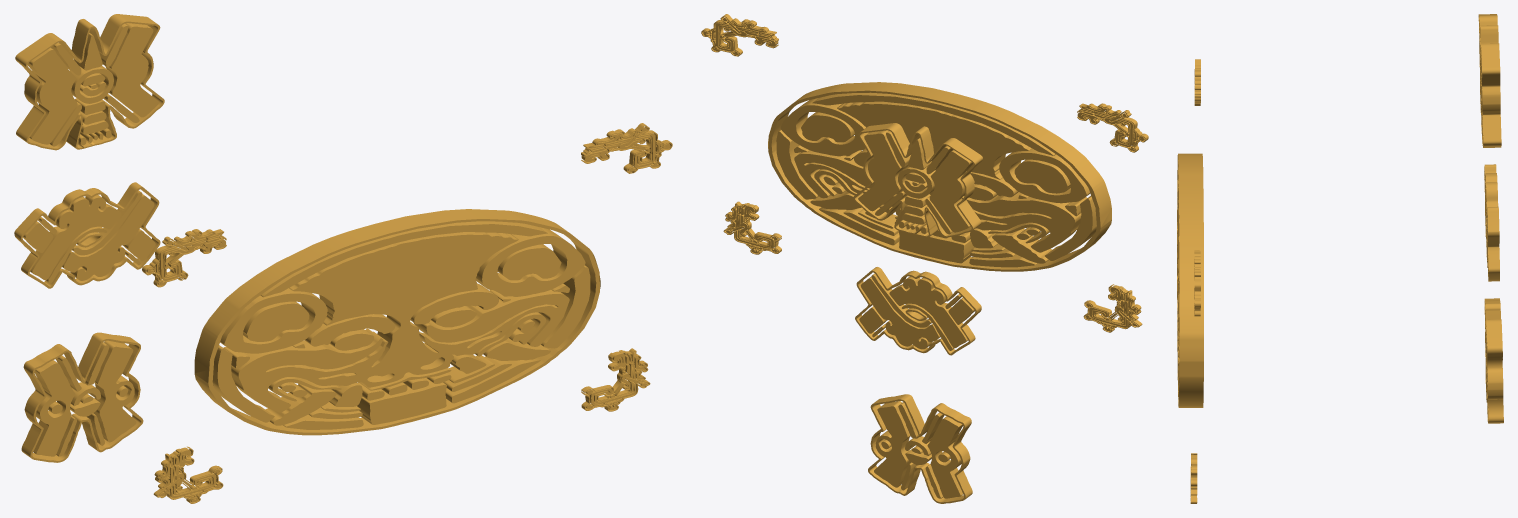
File: goldpart5.glb
The picture shows the model from 3 angles, left to right: view 1: azimuth 30°, elevation 25°; view 2: azimuth 150°, elevation 25°; view 3: azimuth 270°, elevation 25°; orthographic projection. The views are drawn at different scales.
Visible parts, largest first — view 1: Selection.187, Selection #1.006, Selection.816, Selection.815, Selection #2.005, Selection #2.002, Selection #2.004, Selection #2.001; view 2: Selection.187, Selection #1.006, Selection.816, Selection.815, Selection #2.005, Selection #2.002, Selection #2.004, Selection #2.001; view 3: Selection.187, Selection #1.006, Selection.816, Selection.815, Selection #2.005, Selection #2.001.
Boxes of the visible parts, <box> form: Selection.187: <box>194,209,600,435</box>; Selection #1.006: <box>15,14,164,150</box>; Selection.816: <box>21,332,143,462</box>; Selection.815: <box>14,182,160,288</box>; Selection #2.005: <box>581,123,672,173</box>; Selection #2.002: <box>153,446,223,503</box>; Selection #2.004: <box>142,229,226,287</box>; Selection #2.001: <box>581,348,650,411</box>; Selection.187: <box>768,82,1111,271</box>; Selection #1.006: <box>853,123,982,237</box>; Selection.816: <box>868,394,972,503</box>; Selection.815: <box>855,267,981,355</box>; Selection #2.005: <box>701,14,778,56</box>; Selection #2.002: <box>1083,284,1142,332</box>; Selection #2.004: <box>1077,103,1148,152</box>; Selection #2.001: <box>723,201,781,254</box>; Selection.187: <box>1177,153,1203,407</box>; Selection #1.006: <box>1478,14,1501,147</box>; Selection.816: <box>1484,298,1503,423</box>; Selection.815: <box>1484,164,1499,281</box>; Selection #2.005: <box>1194,250,1200,316</box>; Selection #2.001: <box>1190,453,1197,503</box>.
Size of the model in its own units: 1.22 by 0.9555 by 0.7288.
